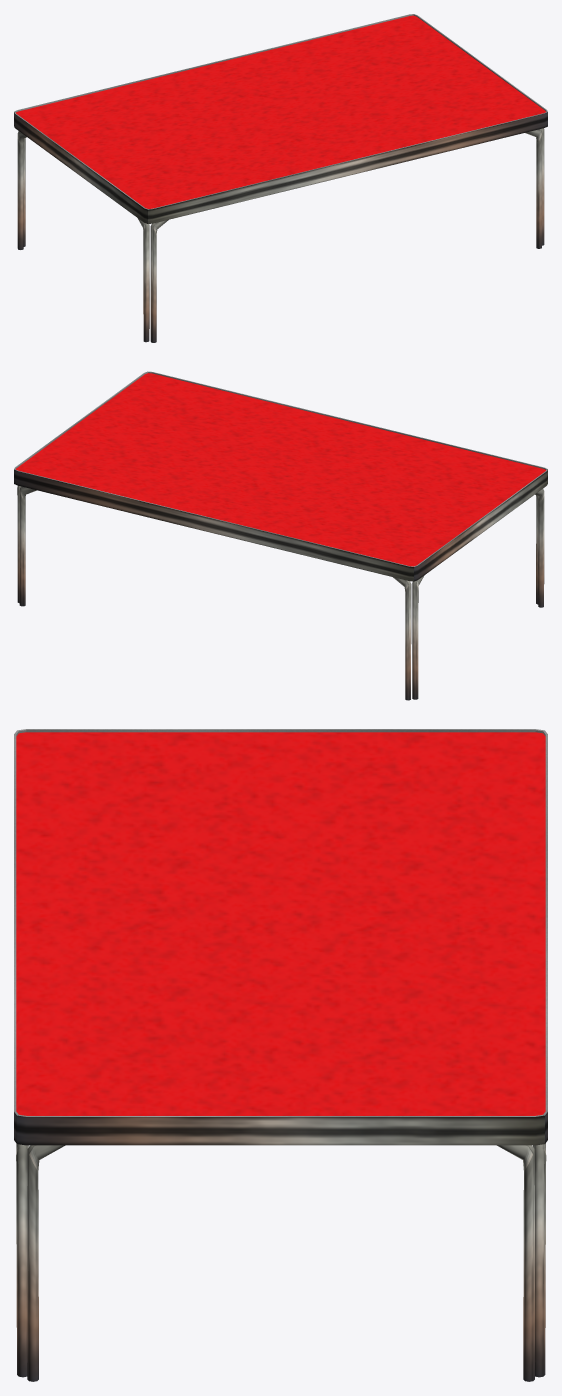
File: Dining_Table_04_B.FBX
3 renders of one model, top to bottom at view 1: azimuth 30°, elevation 25°; view 2: azimuth 150°, elevation 25°; view 3: azimuth 270°, elevation 25°, orthographic. The views are drawn at different scales.
Parts seen in each view (by area): view 1: Dining_Table; view 2: Dining_Table; view 3: Dining_Table.
Part boxes in pixels (x1,y1,x2,y2): Dining_Table: [14, 14, 547, 342]; Dining_Table: [14, 371, 547, 700]; Dining_Table: [14, 729, 547, 1381].
Bounding box in the file's own units: 437 × 140 × 254.
